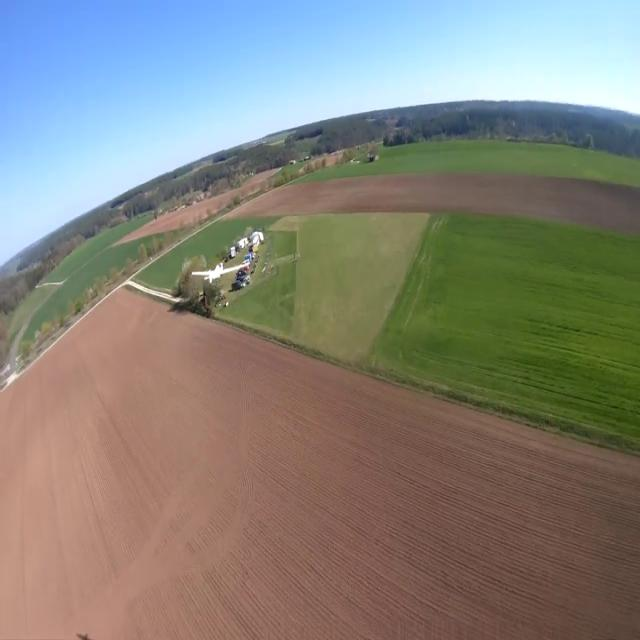iha: (189, 260, 246, 281)
